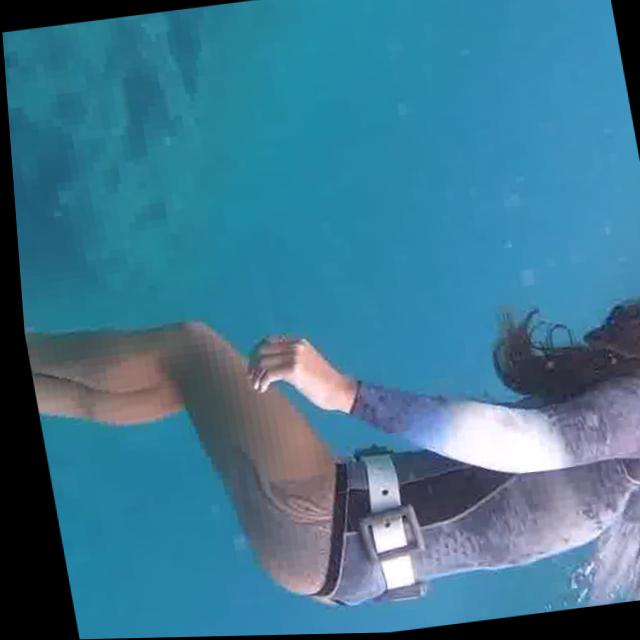human: (12, 192, 640, 640)
